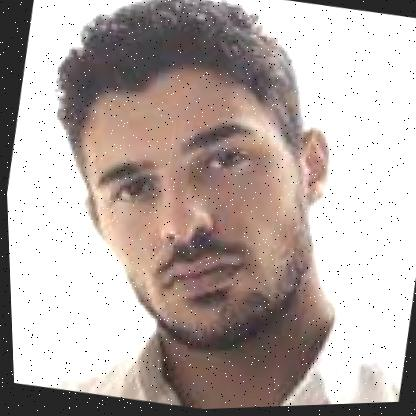person: (12, 0, 374, 381)
